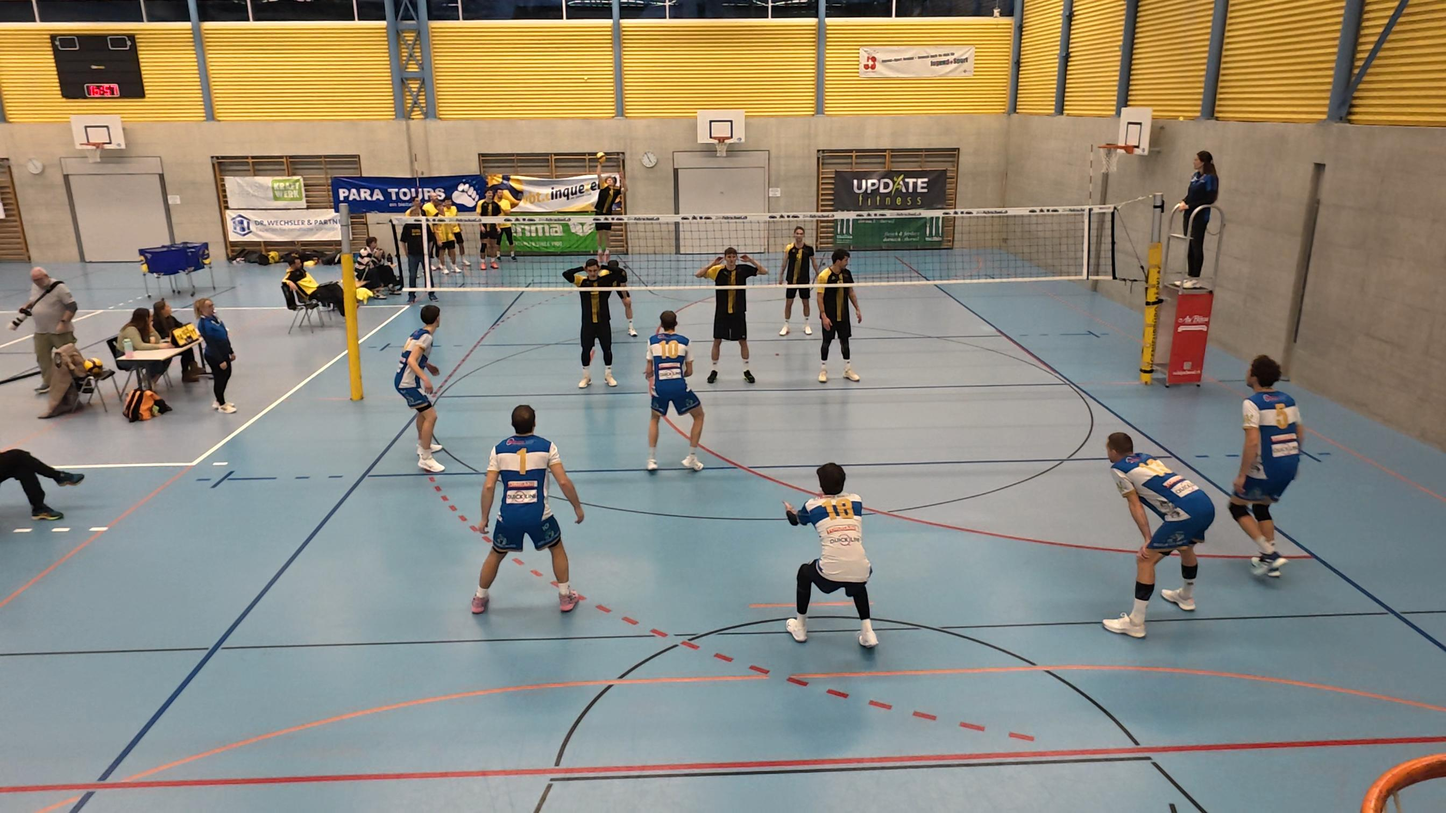Player: (470, 404, 585, 614), (1103, 433, 1215, 637), (781, 462, 879, 650), (1224, 355, 1301, 579), (644, 313, 707, 474), (700, 248, 764, 385), (564, 254, 626, 390), (396, 306, 445, 474), (813, 254, 862, 384), (779, 226, 819, 340), (596, 239, 637, 339)
Serve: (588, 152, 628, 264)
ball: (597, 149, 606, 165)
